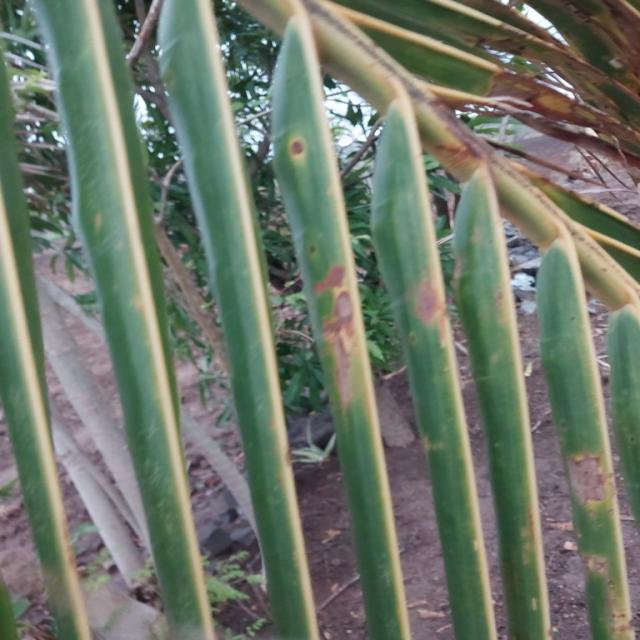gray leaf spot: (328, 0, 640, 293), (262, 19, 383, 487), (363, 102, 477, 536), (567, 424, 640, 639)
